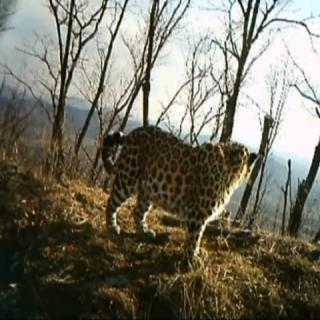Leopard: (100, 100, 276, 282)
